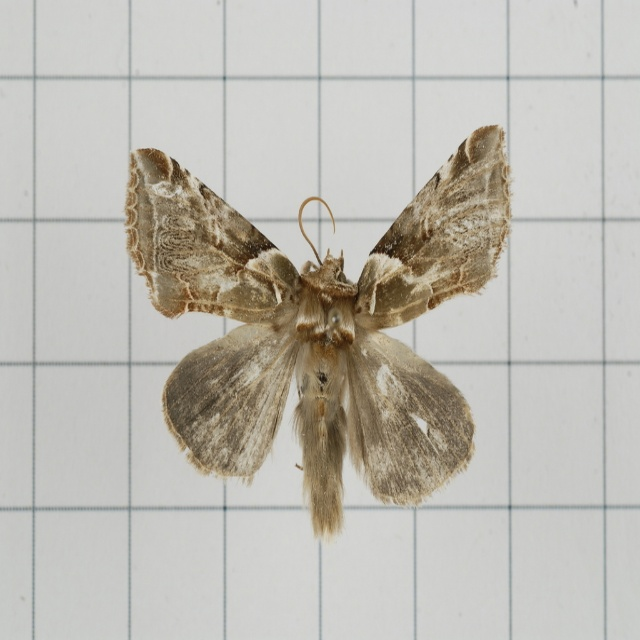Butterfly: (119, 117, 514, 541)
